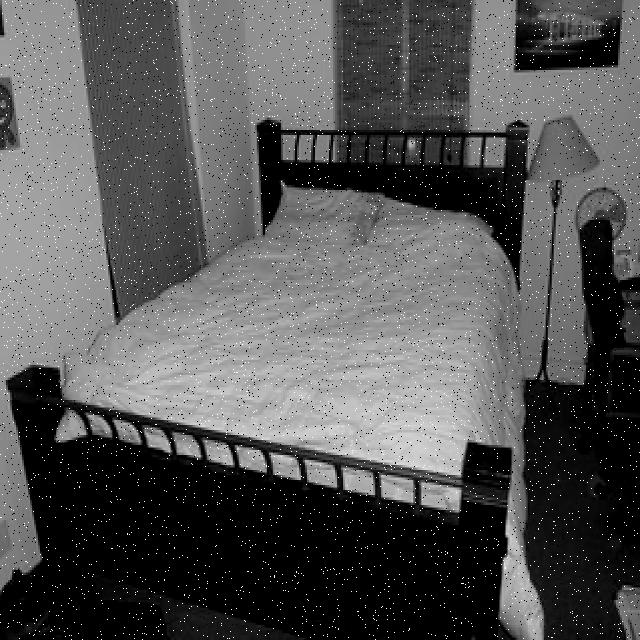bed: (13, 111, 536, 640)
